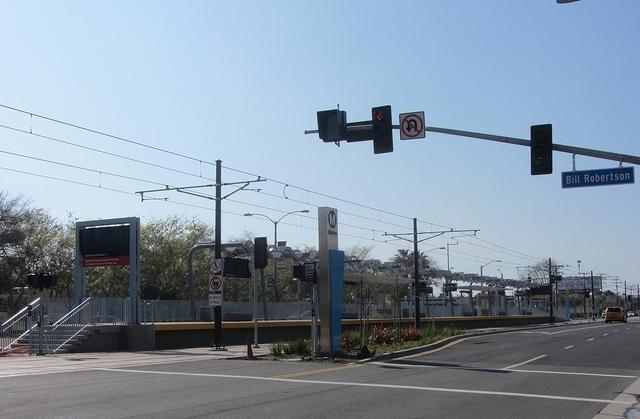car: (604, 306, 628, 324), (628, 311, 638, 317)
